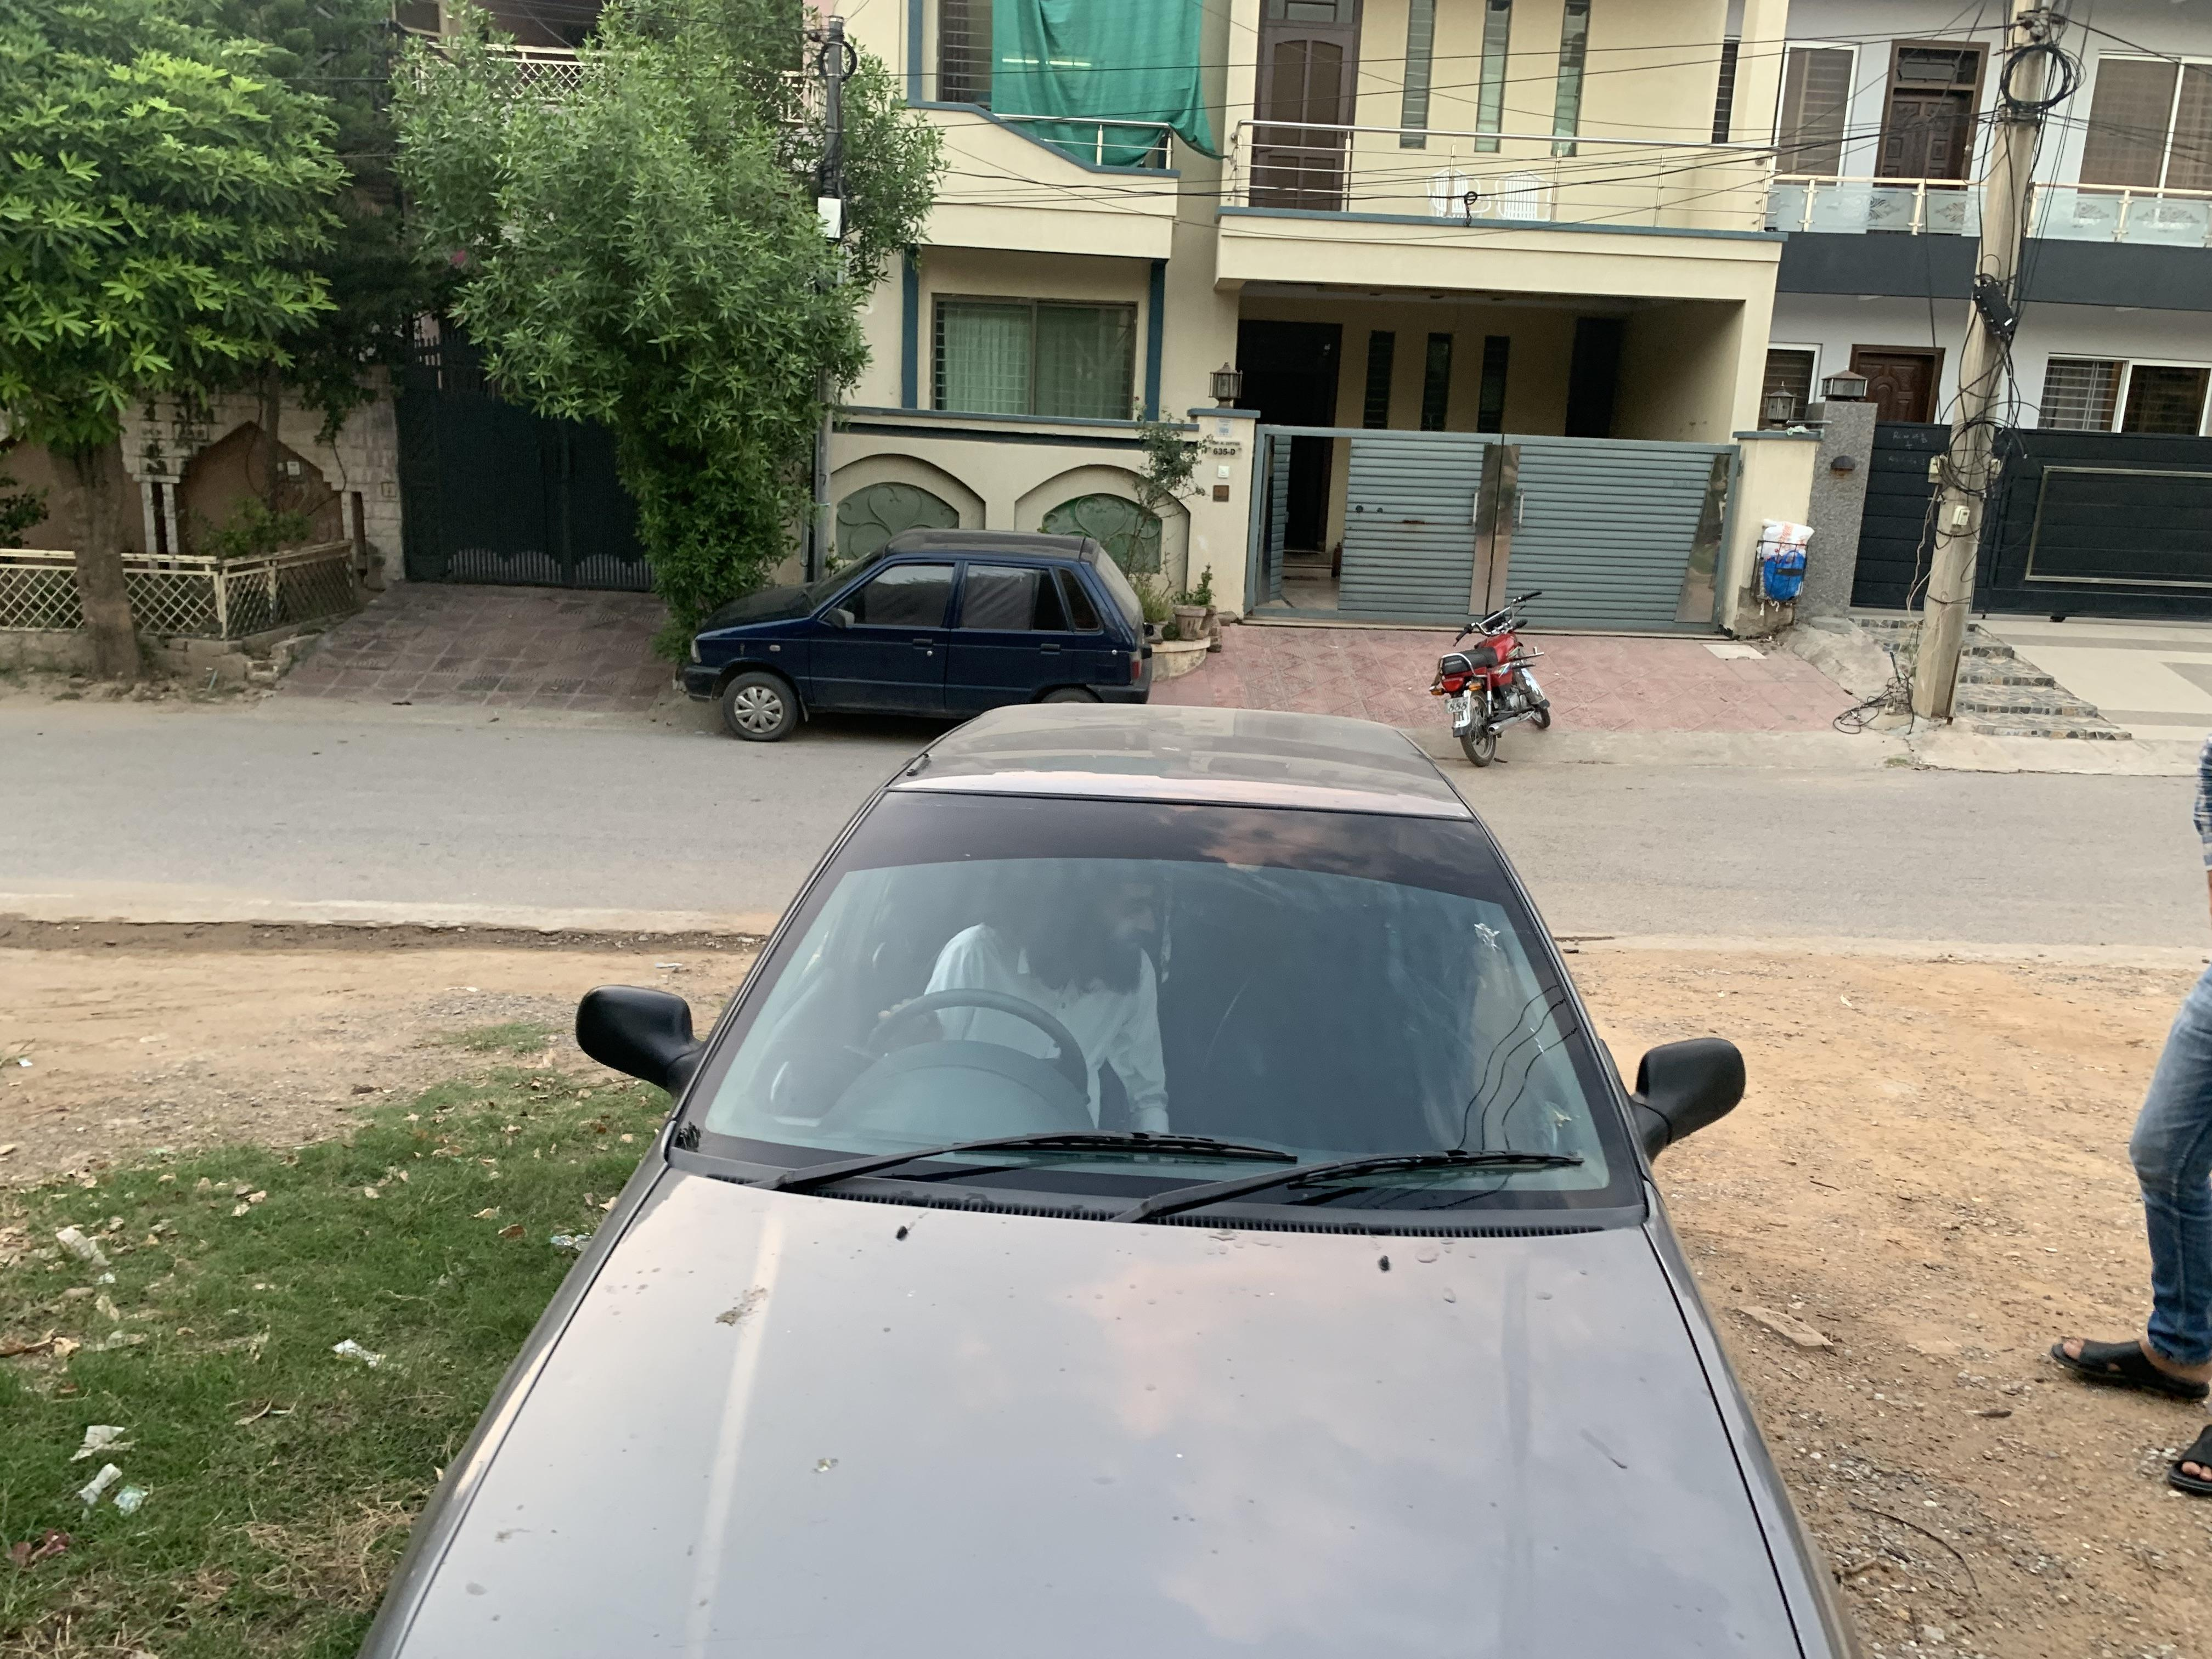windshield: (653, 769, 1658, 1208)
